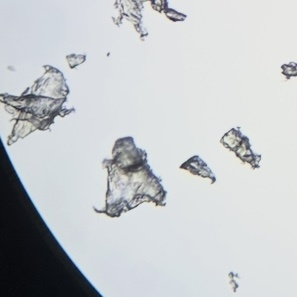microplastic: (1, 65, 75, 147), (93, 137, 166, 217), (113, 1, 187, 41), (220, 127, 261, 171), (179, 155, 216, 183), (281, 62, 297, 82), (65, 54, 86, 69), (228, 272, 239, 292)
